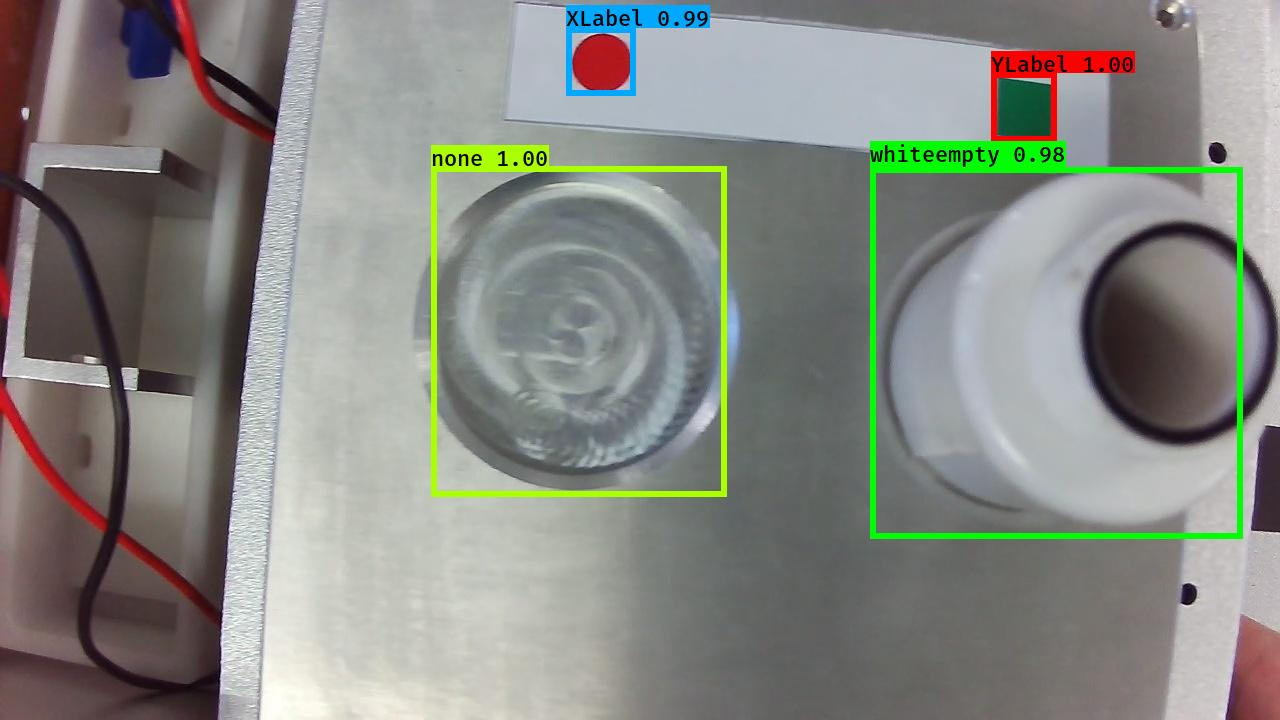XLabel: (570, 30, 632, 96)
YLabel: (991, 74, 1058, 142)
none: (404, 163, 744, 492)
whiteempty: (883, 166, 1280, 550)
